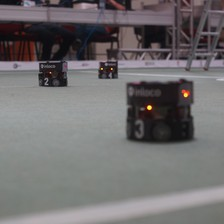robot: (122, 75, 197, 144), (35, 58, 70, 88), (96, 58, 120, 79)
